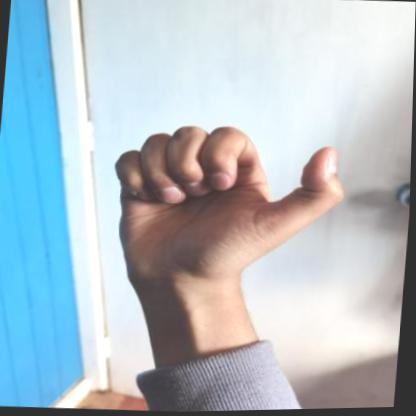E: (85, 101, 366, 312)
